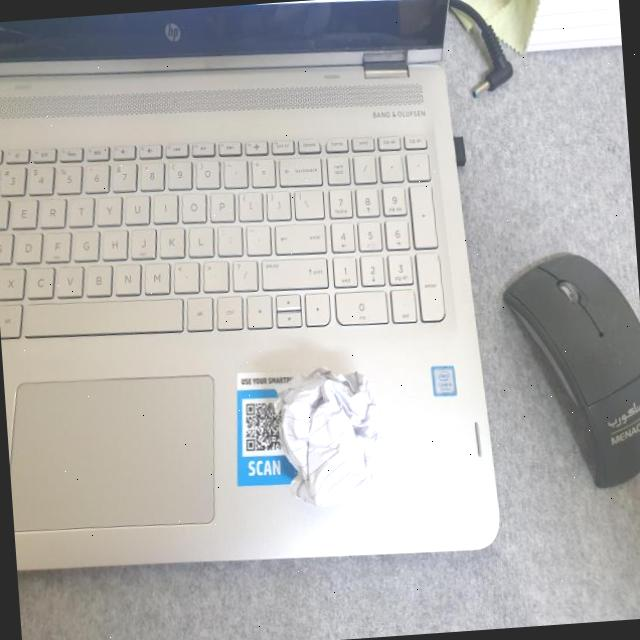trash: (259, 354, 395, 516)
